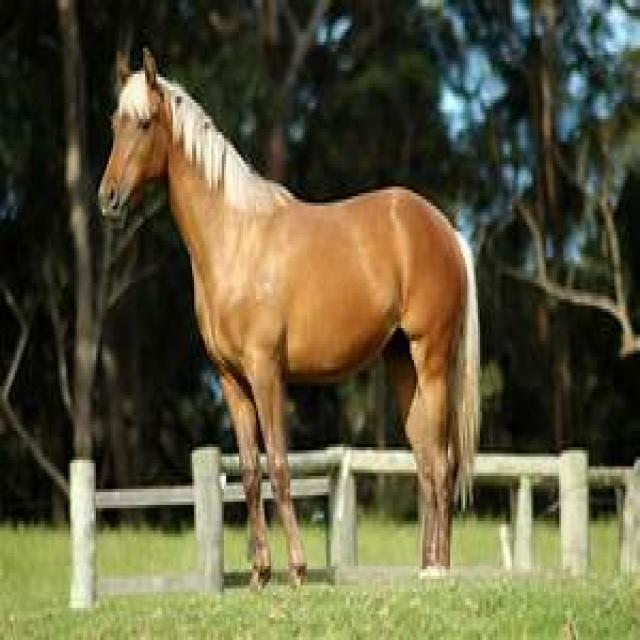horse: (100, 48, 482, 592)
